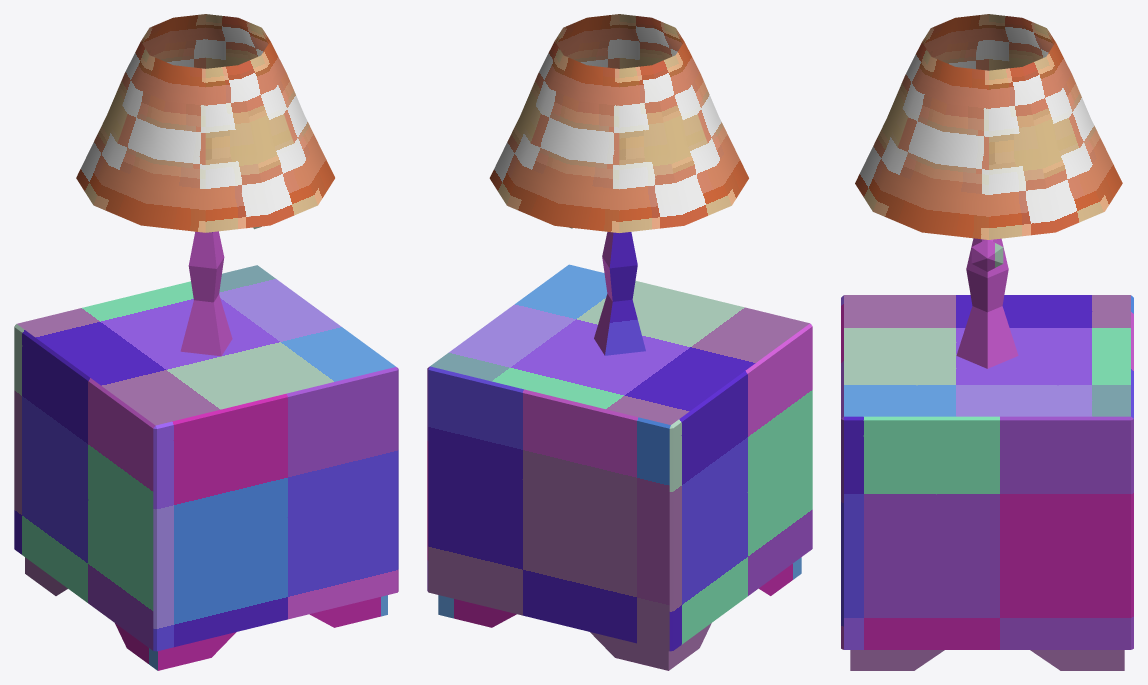
The model's file is rmk_grn_lamp_jwl.dae.
3 renders of one model, left to right at view 1: azimuth 30°, elevation 25°; view 2: azimuth 150°, elevation 25°; view 3: azimuth 270°, elevation 25°, orthographic. The views are drawn at different scales.
Parts seen in each view (by area): view 1: rmk_grn_lamp_jwl; view 2: rmk_grn_lamp_jwl; view 3: rmk_grn_lamp_jwl.
Part boxes in pixels (x1,y1,x2,y2): rmk_grn_lamp_jwl: [14, 14, 398, 670]; rmk_grn_lamp_jwl: [427, 14, 812, 670]; rmk_grn_lamp_jwl: [841, 14, 1133, 670].
Size of the model in its own units: 25.6 by 55.03 by 25.6.
Materials: 2 (2 with a texture image).
